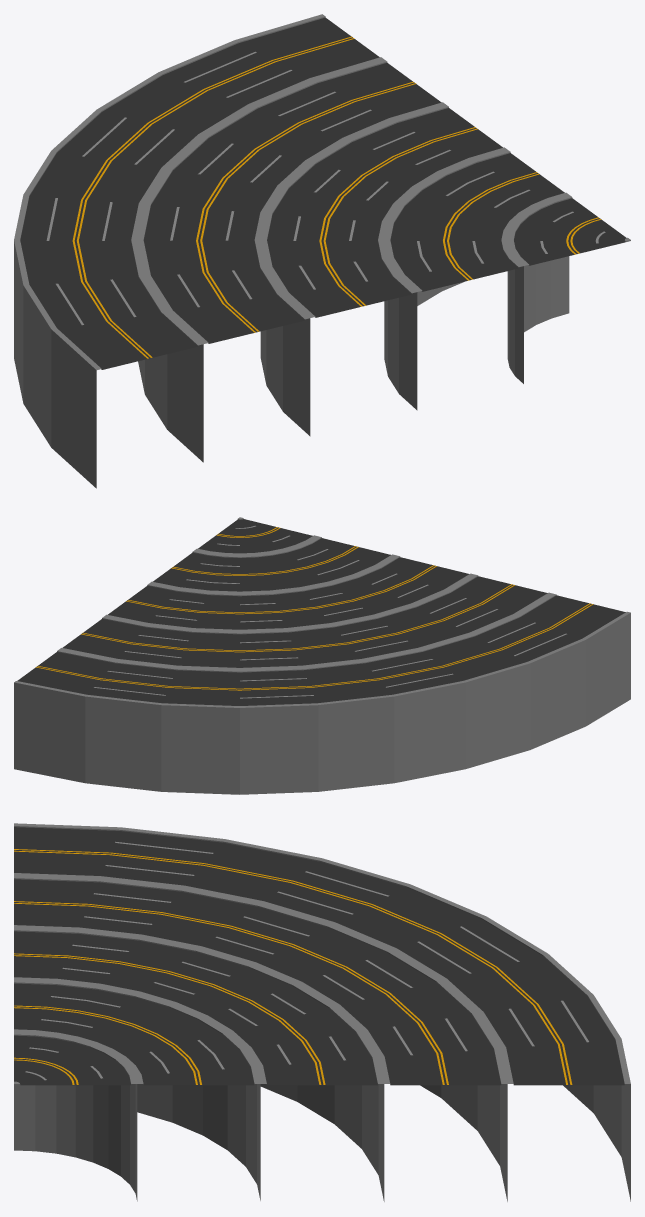
The model's file is RoadSystemCurved.fbx.
The picture shows the model from 3 angles, top to bottom: view 1: azimuth 30°, elevation 25°; view 2: azimuth 150°, elevation 25°; view 3: azimuth 270°, elevation 25°; orthographic projection. The views are drawn at different scales.
Visible parts, largest first — view 1: road_20x20(5)LOD0, road_20x20(4)LOD0, road_20x20.003LOD0, road_20x20.002LOD0, road_20x20.001LOD0; view 2: road_20x20(5)LOD0, road_20x20(4)LOD0, road_20x20.003LOD0, road_20x20.002LOD0, road_20x20.001LOD0; view 3: road_20x20(5)LOD0, road_20x20(4)LOD0, road_20x20.003LOD0, road_20x20.002LOD0, road_20x20.001LOD0.
Part boxes in pixels (x1,y1,x2,y2): road_20x20(5)LOD0: (14, 14, 383, 488); road_20x20(4)LOD0: (137, 59, 445, 460); road_20x20.003LOD0: (260, 104, 506, 435); road_20x20.002LOD0: (384, 149, 568, 410); road_20x20.001LOD0: (507, 195, 630, 383); road_20x20(5)LOD0: (14, 593, 630, 794); road_20x20(4)LOD0: (59, 574, 552, 669); road_20x20.003LOD0: (105, 555, 473, 631); road_20x20.002LOD0: (150, 536, 395, 593); road_20x20.001LOD0: (195, 517, 317, 555); road_20x20(5)LOD0: (14, 823, 630, 1201); road_20x20(4)LOD0: (14, 875, 507, 1201); road_20x20.003LOD0: (14, 927, 383, 1118); road_20x20.002LOD0: (14, 979, 260, 1200); road_20x20.001LOD0: (14, 1032, 137, 1201).
Size of what is drawn, in the model's own units: 10000 by 2120 by 10000.
